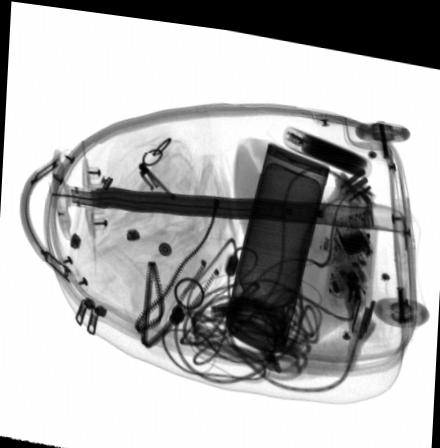Powerbank: (282, 118, 373, 170)
